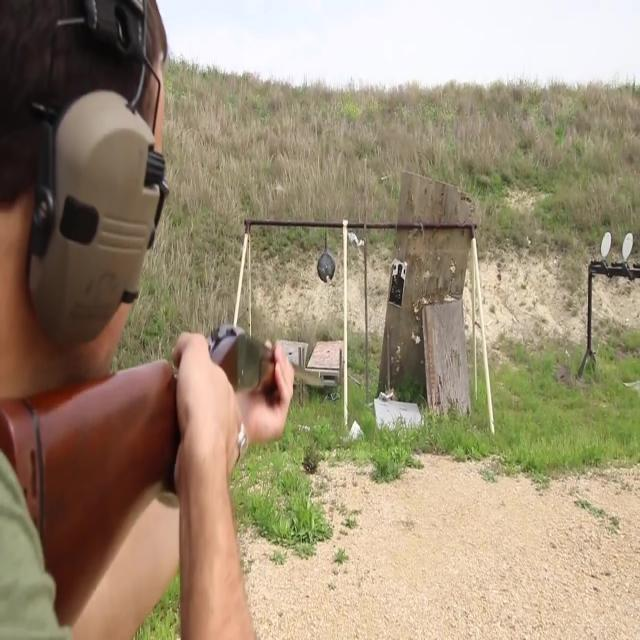Weapon: (0, 300, 389, 545)
